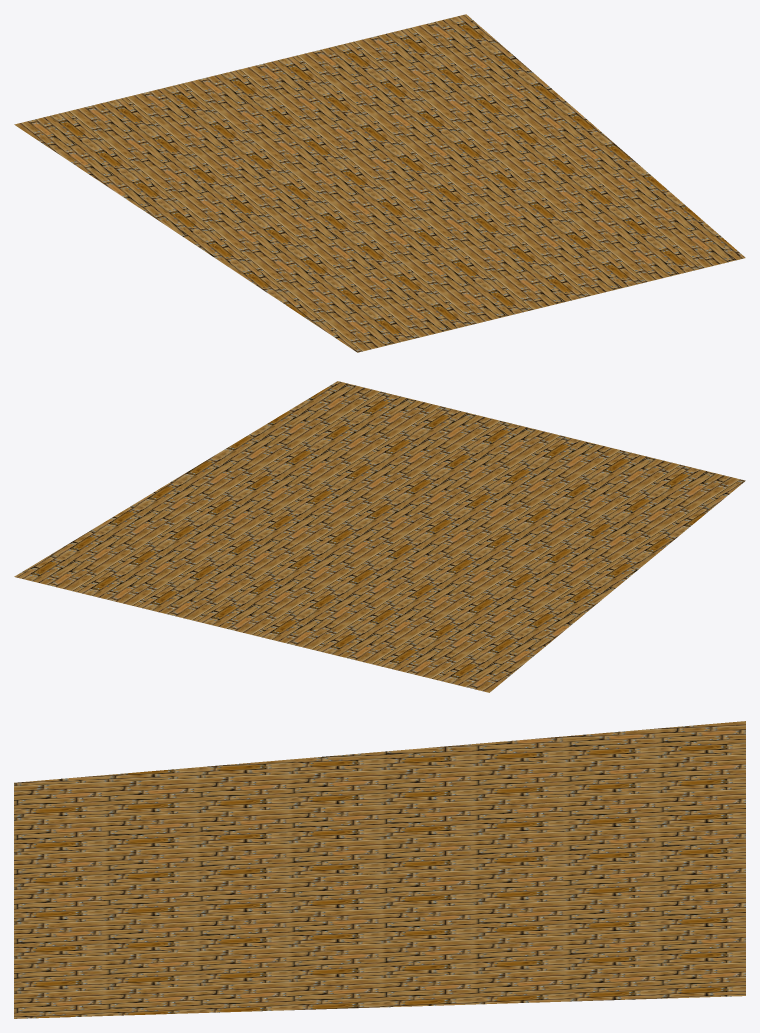
The model's file is Schiff_PlattformHinten2_1274.glb.
The picture shows the model from 3 angles, top to bottom: view 1: azimuth 30°, elevation 25°; view 2: azimuth 150°, elevation 25°; view 3: azimuth 270°, elevation 25°; orthographic projection. The views are drawn at different scales.
Visible parts, largest first — view 1: ship_plattform_hintenShape2; view 2: ship_plattform_hintenShape2; view 3: ship_plattform_hintenShape2.
Boxes of the visible parts, x1=… form: ship_plattform_hintenShape2: x1=14, y1=14, x2=745, y2=352; ship_plattform_hintenShape2: x1=14, y1=381, x2=745, y2=692; ship_plattform_hintenShape2: x1=14, y1=721, x2=745, y2=1018.
Bounding box in the file's own units: 2 × 0.1068 × 2.25.
1 material, 1 textured.
